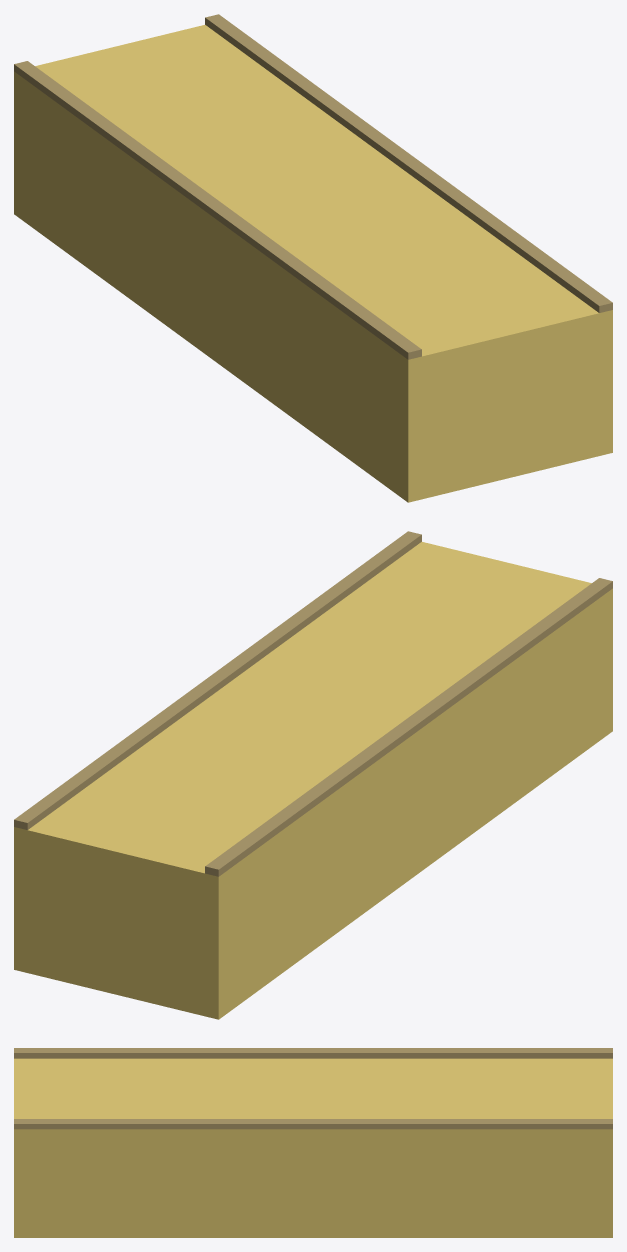
Rendered from BasicSandFloor.fbx.
3 views of the same model, one above another, from view 1: azimuth 30°, elevation 25°; view 2: azimuth 150°, elevation 25°; view 3: azimuth 270°, elevation 25° (orthographic). The views are drawn at different scales.
Visible parts, largest first — view 1: Cube, Cube.002; view 2: Cube, Cube.002; view 3: Cube, Cube.002.
Boxes of the visible parts, x1,y1,x2,y2 form: Cube: (14, 25, 612, 502); Cube.002: (14, 14, 612, 359); Cube: (14, 542, 612, 1019); Cube.002: (14, 531, 612, 876); Cube: (14, 1058, 612, 1237); Cube.002: (14, 1048, 612, 1129).
Size of the model in its own units: 300 by 210 by 1000.
